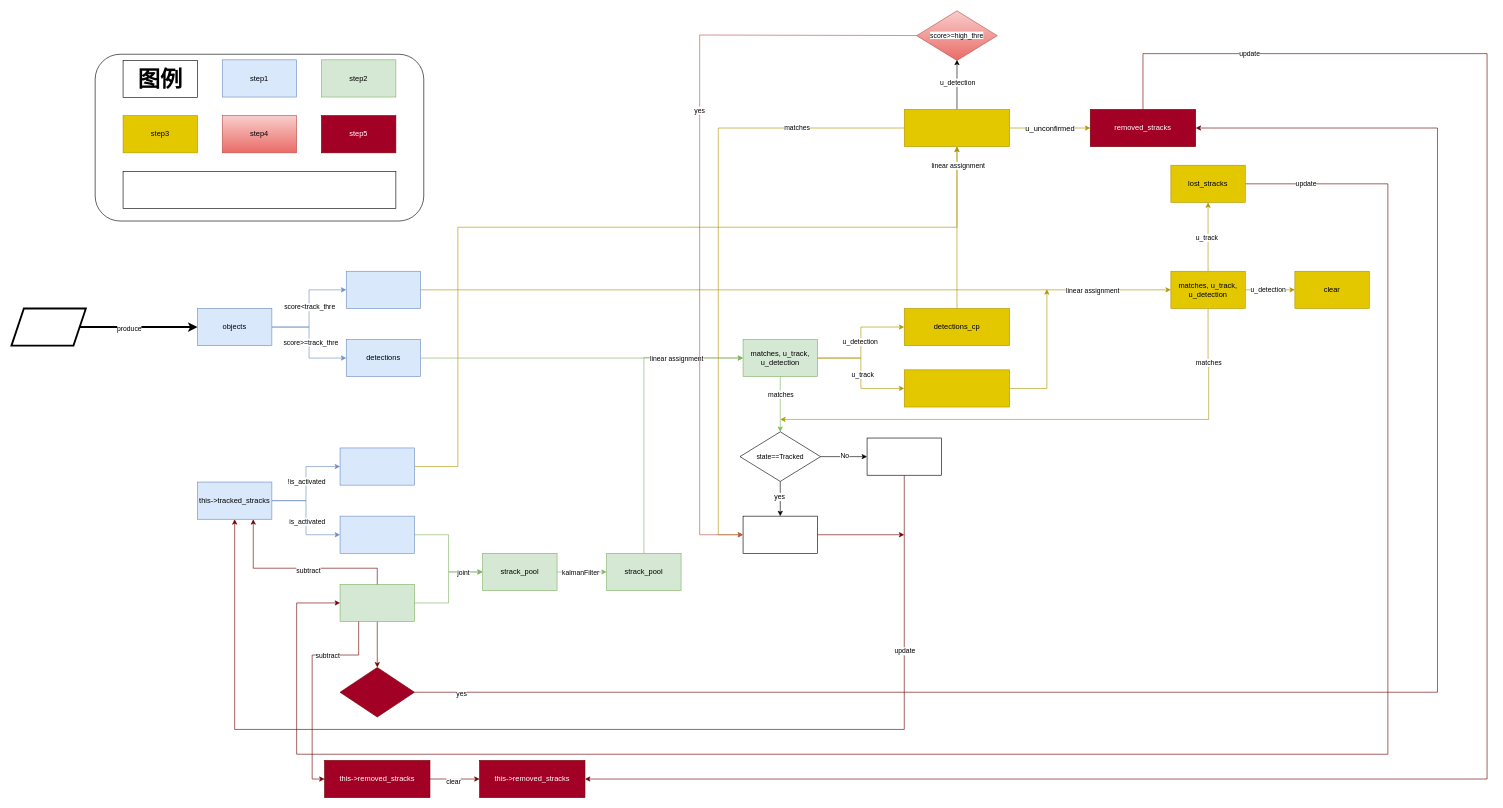
This 1503x808 diagram has some shape labels left out. The centre of each missing label's shape, as x and y in pixels:
">max_time_lost" belongs at pixel 376 692.
"activated_stracks" belongs at pixel 779 534.
"detections_low" belongs at pixel 383 289.
"matches, u_unconfirmed, u_detection" belongs at pixel 957 128.
"object-detector" belongs at pixel 48 326.
"r_tracked_stracks" belongs at pixel 957 388.
"refind_stracks" belongs at pixel 903 456.
"this->lost_stracks" belongs at pixel 376 603.
"tracked_stracks" belongs at pixel 376 534.
"unconfirmed" belongs at pixel 376 466.
"图例中的step与代码中的step是对应的" belongs at pixel 259 190.
